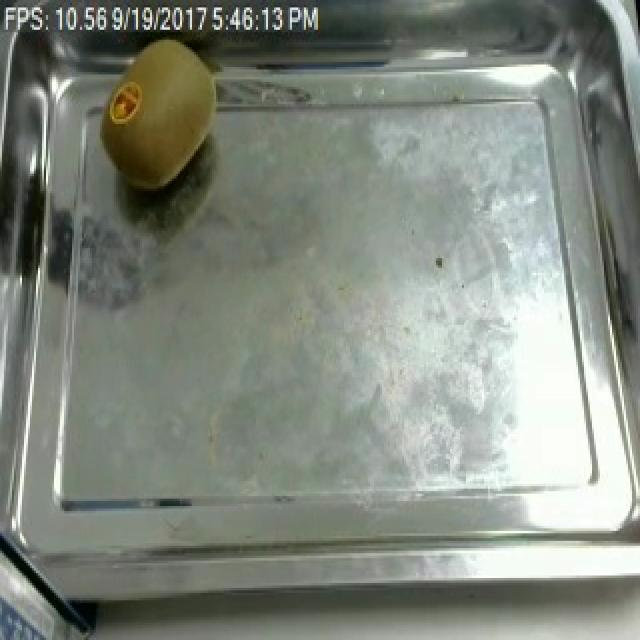Fruit: (98, 25, 224, 203)
